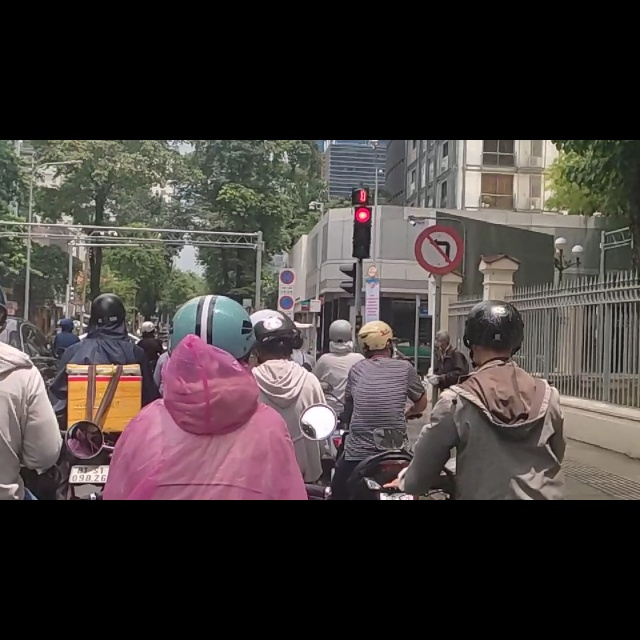bien_chi_dan: (413, 152, 462, 241), (279, 274, 294, 302), (279, 229, 294, 257)
